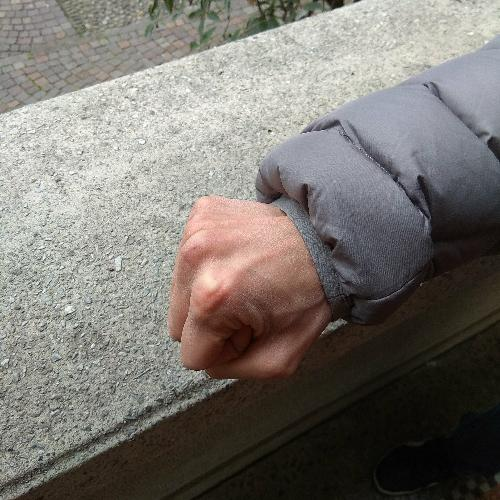rock: (162, 189, 336, 385)
